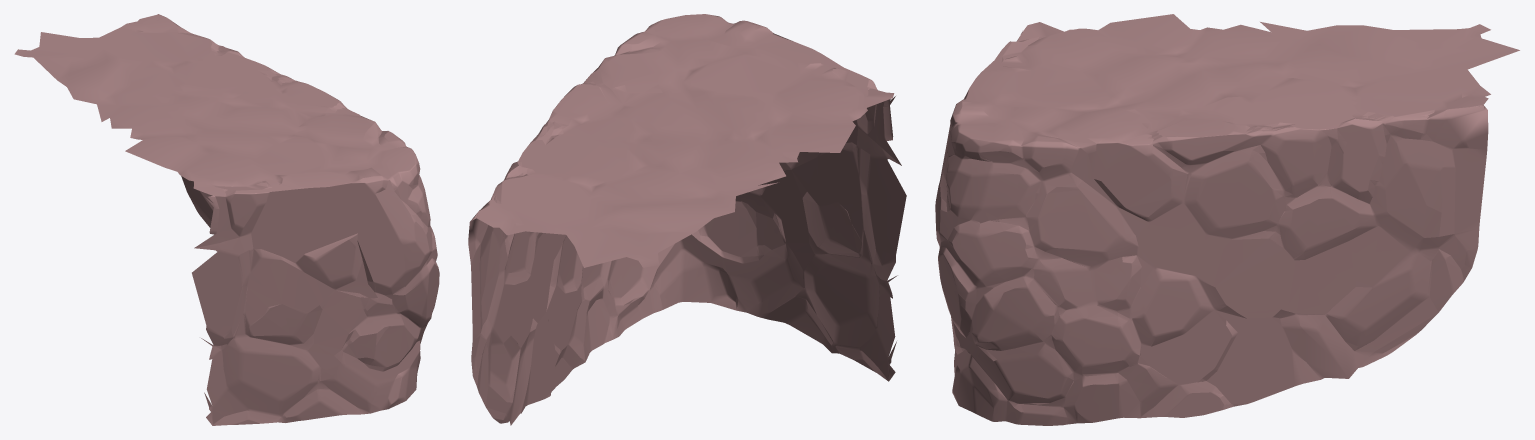
File: pleateauArea1.fbx_PolyShape__46__015LODs.fbx
3 renders of one model, left to right at view 1: azimuth 30°, elevation 25°; view 2: azimuth 150°, elevation 25°; view 3: azimuth 270°, elevation 25°, orthographic. The views are drawn at different scales.
Parts seen in each view (by area): view 1: PolyShape (46).015_LOD0; view 2: PolyShape (46).015_LOD0; view 3: PolyShape (46).015_LOD0.
Boxes of the visible parts, x1,y1,x2,y2 form: PolyShape (46).015_LOD0: [14, 14, 439, 425]; PolyShape (46).015_LOD0: [468, 14, 906, 425]; PolyShape (46).015_LOD0: [935, 14, 1519, 425].
Size of what is drawn, in the model's own units: 4329 by 4241 by 7801.
